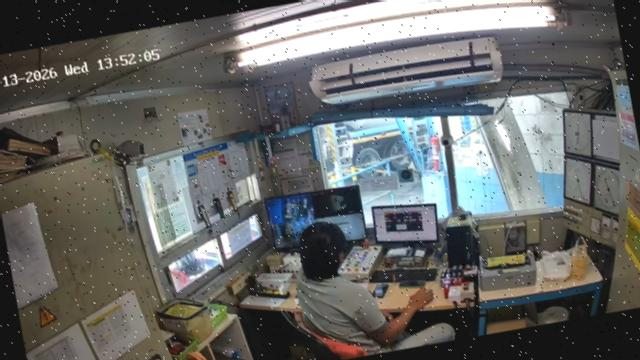Head: (299, 221, 348, 280)
People: (297, 222, 455, 357)
Phone: (373, 284, 390, 297), (399, 280, 425, 287)
